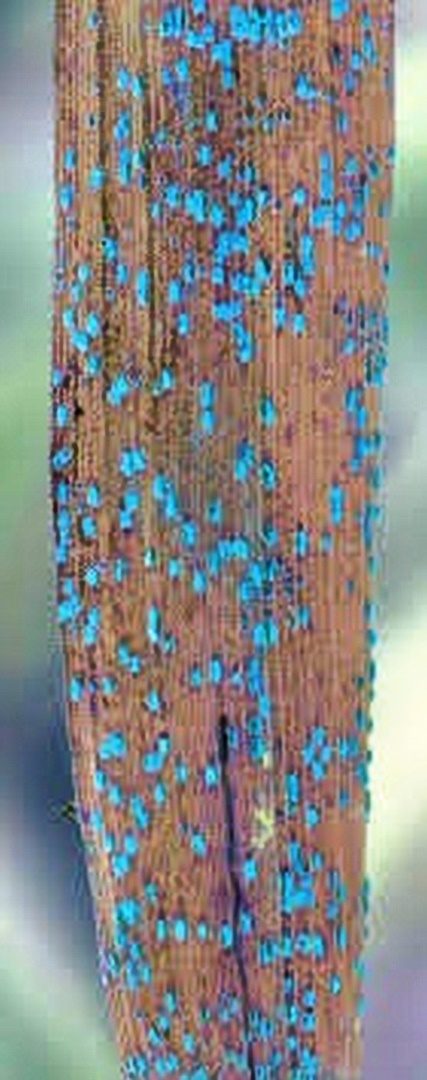Leaf Rust: (32, 52, 390, 945)
